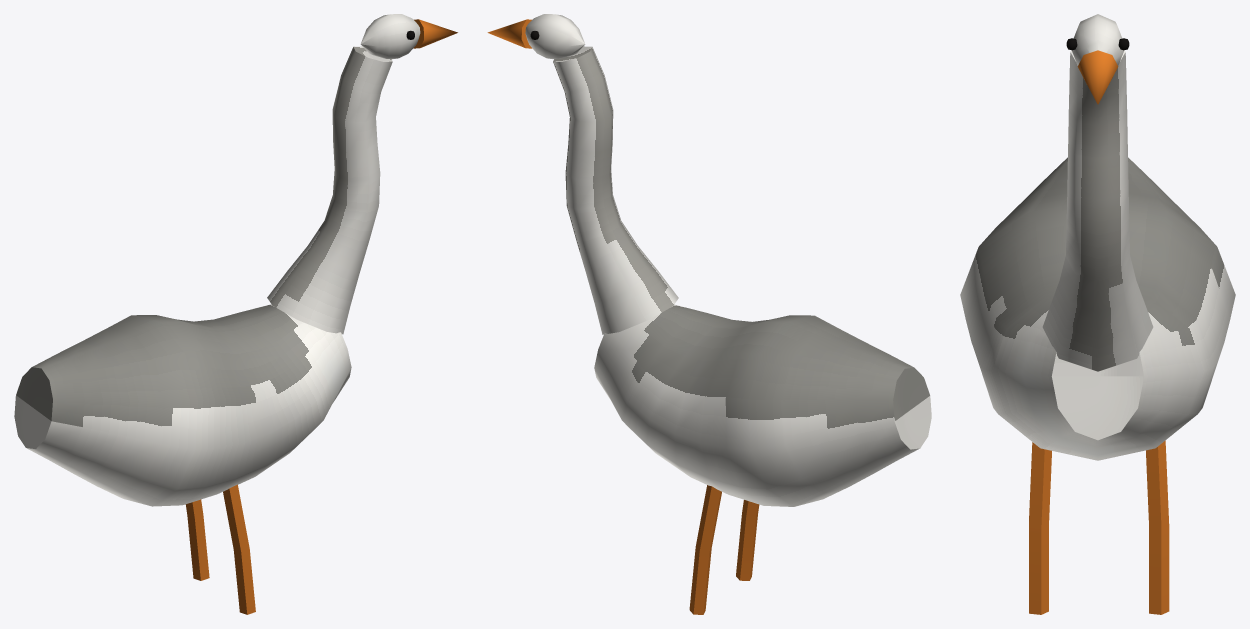
File: tpl_life_geese_1175_goose_landgans_stand.glb
3 views of the same model, side by side, from view 1: azimuth 30°, elevation 25°; view 2: azimuth 150°, elevation 25°; view 3: azimuth 270°, elevation 25° (orthographic). The views are drawn at different scales.
Visible parts, largest first — view 1: tpl_life_geese_1175_goose_landgans_stand; view 2: tpl_life_geese_1175_goose_landgans_stand; view 3: tpl_life_geese_1175_goose_landgans_stand.
Part boxes in pixels (<box>): tpl_life_geese_1175_goose_landgans_stand: <box>14,14,457,614</box>; tpl_life_geese_1175_goose_landgans_stand: <box>487,14,931,614</box>; tpl_life_geese_1175_goose_landgans_stand: <box>960,14,1235,614</box>.
Bounding box in the file's own units: 0.7013 × 0.8361 × 0.2982.
Materials: 3 (1 with a texture image).
